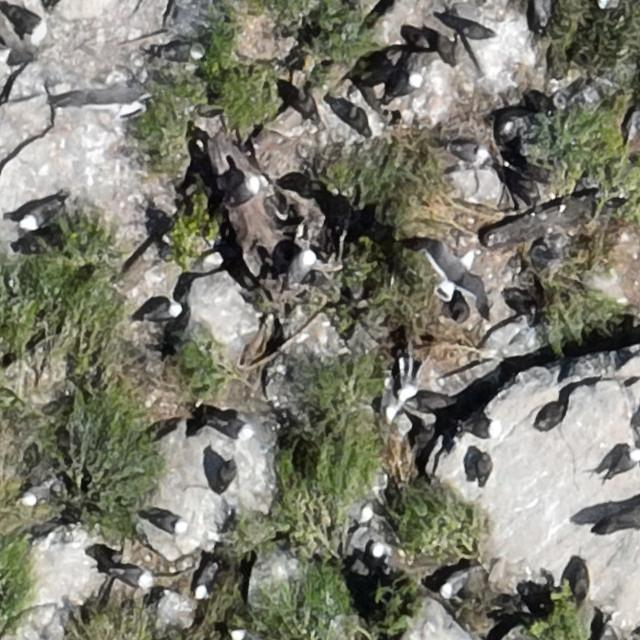F: (407, 238, 499, 318), (62, 70, 160, 118)
umineko: (3, 6, 47, 42), (400, 384, 452, 409), (144, 506, 188, 534), (284, 252, 314, 290), (457, 416, 503, 438), (154, 42, 206, 60), (21, 202, 54, 228), (230, 178, 258, 205), (453, 144, 487, 164), (214, 418, 249, 437), (442, 571, 468, 596), (195, 568, 216, 598), (116, 569, 150, 587), (391, 76, 421, 96), (148, 302, 180, 320), (612, 451, 639, 472), (23, 482, 49, 503), (536, 1, 552, 25), (369, 542, 389, 561), (232, 630, 261, 639), (599, 0, 619, 8)
